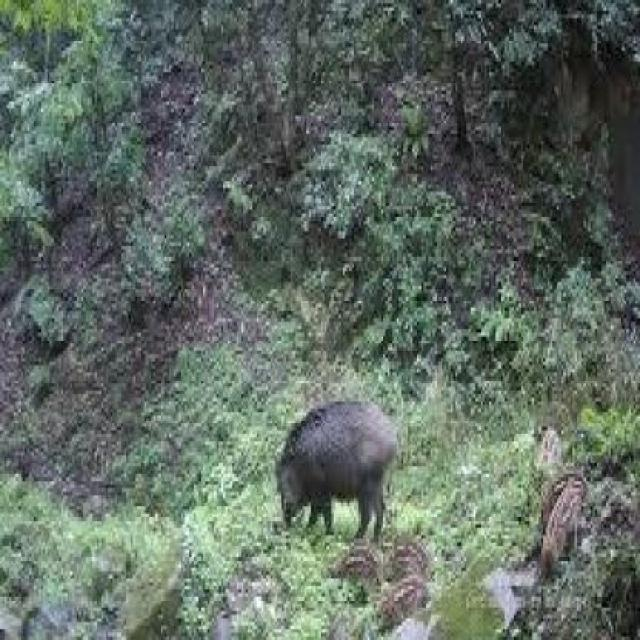wildboar: (273, 388, 407, 541), (529, 456, 594, 578), (372, 571, 438, 640), (326, 535, 388, 597), (388, 524, 438, 581)
